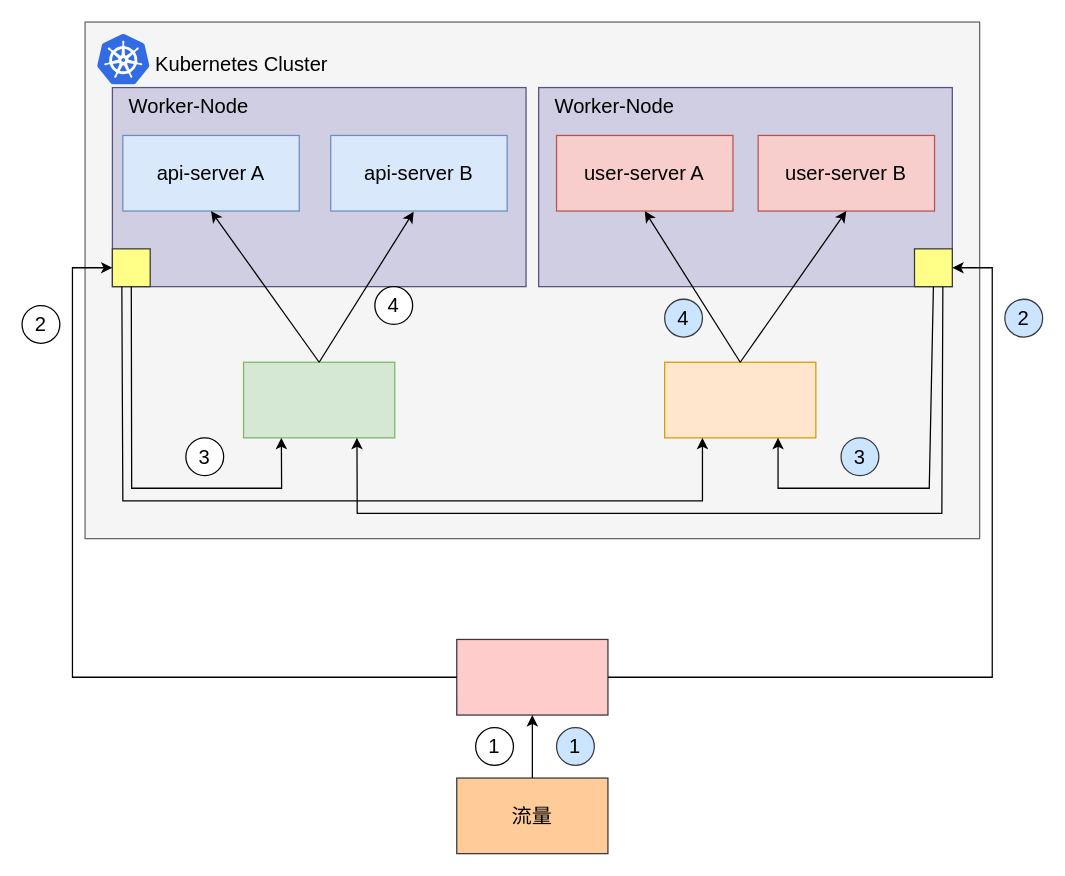
This 1065x876 diagram has some shape labels left out. The shapes that lost their labels are listed below. From the top down, each one's centre as x and y in pixels, then its label:
At point (318, 399): "API-Server Service".
At point (739, 399): "User-Server Service".
At point (531, 676): "Load Balancer".
